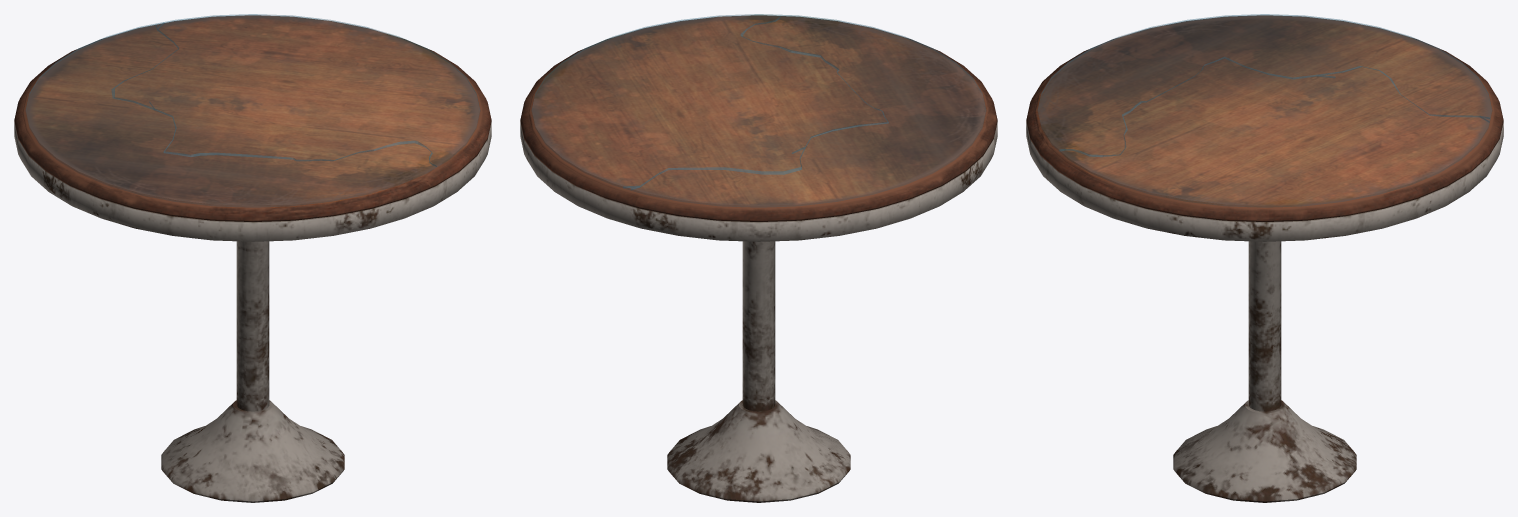
Rendered from rusty_vintage_round_metal_table_broken_glass.glb.
3 renders of one model, left to right at view 1: azimuth 30°, elevation 25°; view 2: azimuth 150°, elevation 25°; view 3: azimuth 270°, elevation 25°, orthographic.
Visible parts, largest first — view 1: LP_top_0, LP_Glass_0, LP_Metal_0, LP_side glass_0, LP_crack side glass_0; view 2: LP_top_0, LP_Glass_0, LP_Metal_0, LP_side glass_0, LP_crack side glass_0; view 3: LP_top_0, LP_Glass_0, LP_Metal_0, LP_side glass_0, LP_crack side glass_0.
Boxes of the visible parts, x1,y1,x2,y2 form: LP_top_0: [14, 15, 491, 221]; LP_Glass_0: [26, 14, 479, 205]; LP_Metal_0: [14, 122, 491, 502]; LP_side glass_0: [29, 14, 476, 207]; LP_crack side glass_0: [111, 23, 436, 166]; LP_top_0: [520, 15, 997, 221]; LP_Glass_0: [532, 14, 985, 205]; LP_Metal_0: [520, 122, 997, 502]; LP_side glass_0: [535, 14, 982, 207]; LP_crack side glass_0: [623, 16, 888, 189]; LP_top_0: [1026, 15, 1503, 221]; LP_Glass_0: [1038, 14, 1491, 205]; LP_Metal_0: [1026, 122, 1503, 502]; LP_side glass_0: [1041, 14, 1488, 207]; LP_crack side glass_0: [1059, 57, 1489, 156].
Bounding box in the file's own units: 0.8684 × 0.7114 × 0.869.
5 materials, 5 textured.
